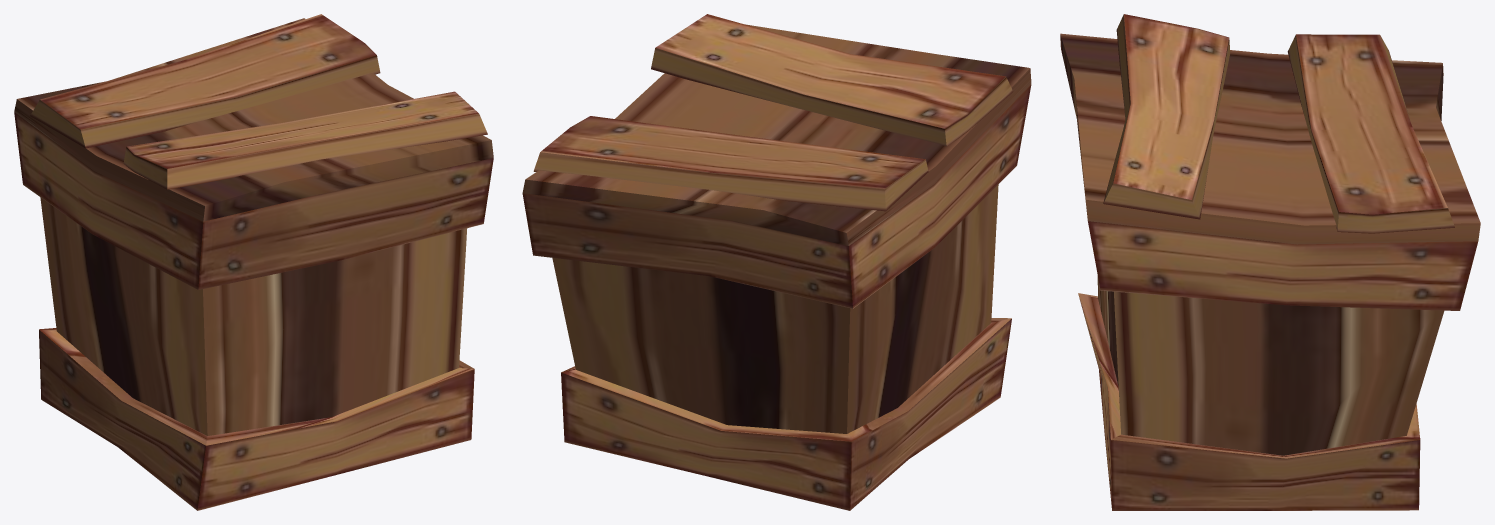
File: SM_PROP_box_01.glb
3 views of the same model, side by side, from view 1: azimuth 30°, elevation 25°; view 2: azimuth 150°, elevation 25°; view 3: azimuth 270°, elevation 25° (orthographic). The views are drawn at different scales.
Visible parts, largest first — view 1: SM_PROP_box_01_EXPORT; view 2: SM_PROP_box_01_EXPORT; view 3: SM_PROP_box_01_EXPORT.
Part boxes in pixels (<box>): SM_PROP_box_01_EXPORT: <box>14,14,493,510</box>; SM_PROP_box_01_EXPORT: <box>522,14,1031,510</box>; SM_PROP_box_01_EXPORT: <box>1060,14,1480,510</box>.
Size of the model in its own units: 0.9806 by 0.9658 by 1.06.
2 materials, 2 textured.
